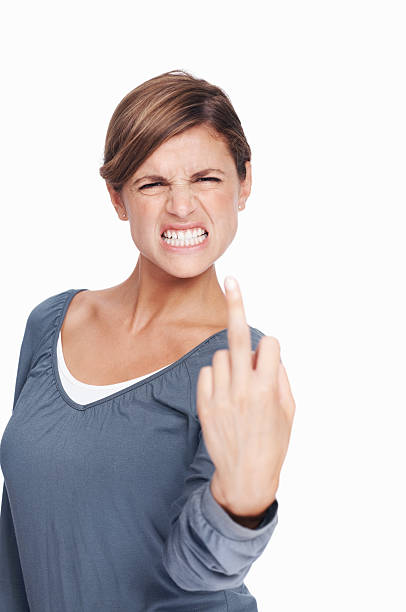insulting_gesture: (197, 277, 294, 492)
